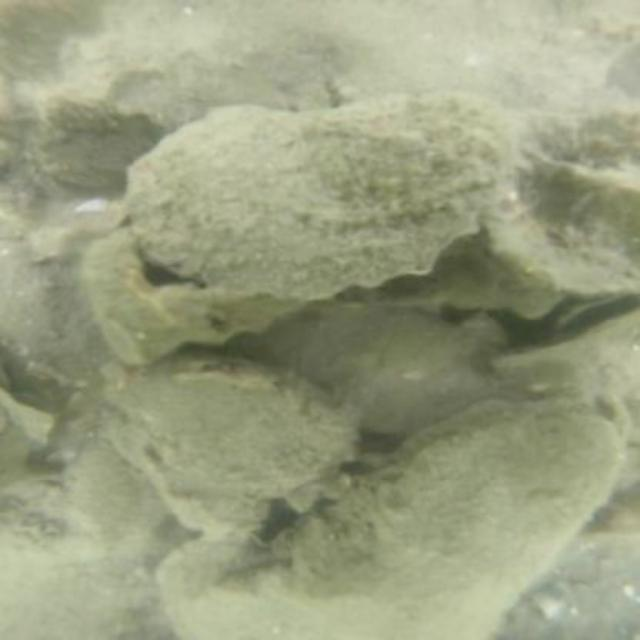Oyster-Closed: (286, 384, 634, 626), (125, 97, 523, 298), (111, 370, 358, 528), (252, 308, 497, 433)
Oyster-Open: (547, 288, 631, 338)
